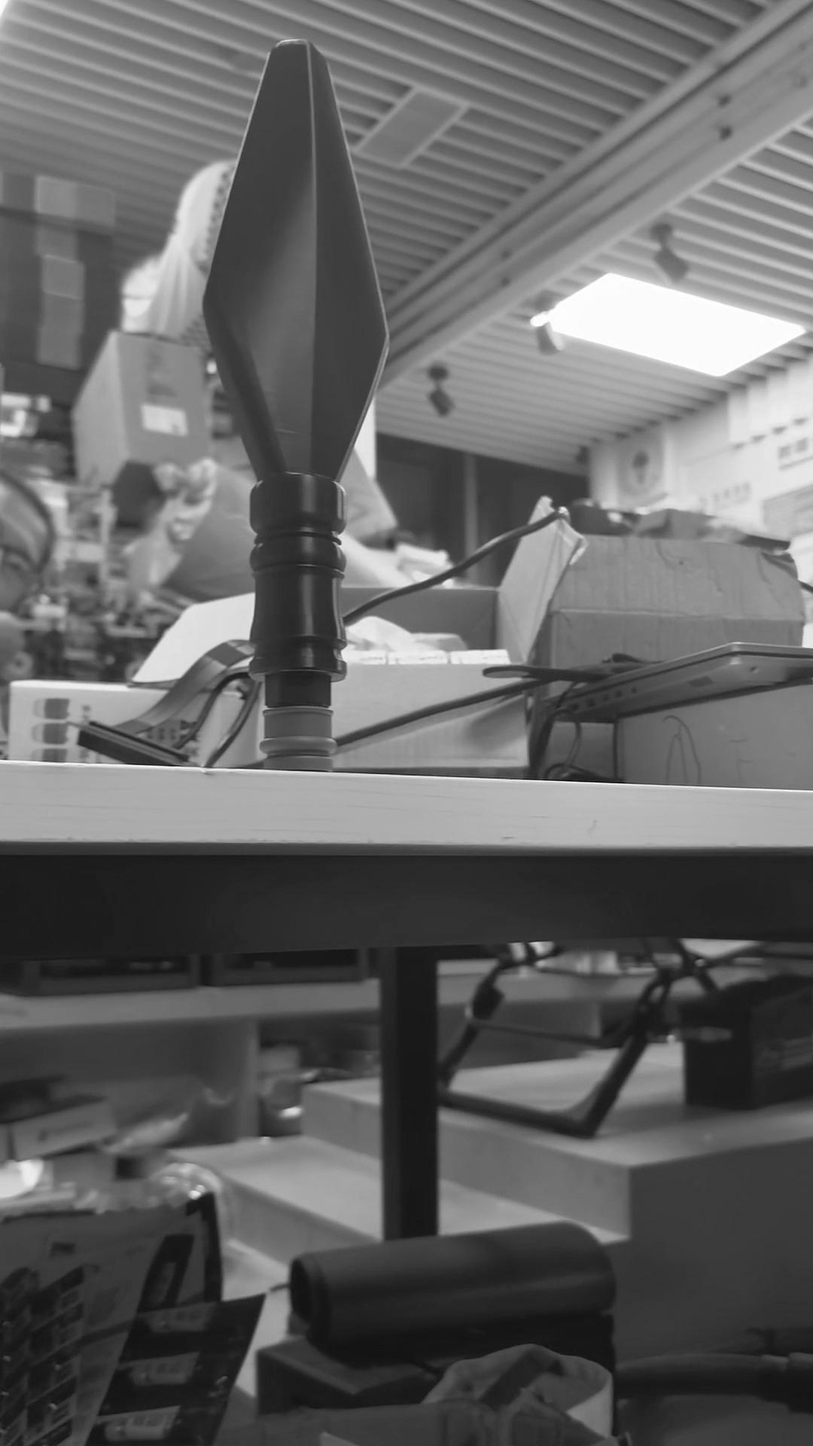base: (256, 696, 342, 780)
